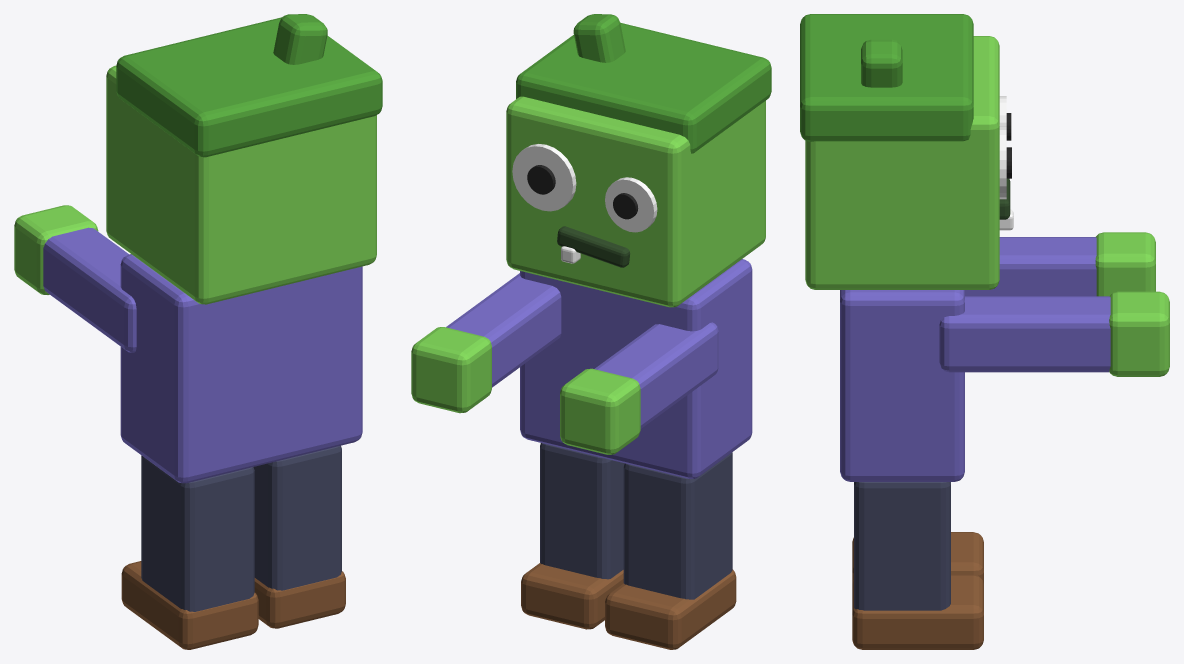
Rendered from zombie.glb.
3 renders of one model, left to right at view 1: azimuth 30°, elevation 25°; view 2: azimuth 150°, elevation 25°; view 3: azimuth 270°, elevation 25°, orthographic. The views are drawn at different scales.
Visible parts, largest first — view 1: Torso, Head, Hair, Leg.R, Leg.L, Arm.R, Shoe.R, Shoe.L, Hand.R, HairTuft; view 2: Head, Torso, Hair, Leg.R, Leg.L, Arm.R, Arm.L, Shoe.R, Hand.R, Hand.L, Shoe.L, Eye.L (+5 smaller); view 3: Head, Torso, Hair, Arm.L, Leg.L, Shoe.L, Arm.R, Hand.L, Hand.R, HairTuft, Shoe.R, Eye.L.
Part boxes in pixels (x1,y1,x2,y2): Torso: (120, 254, 362, 483); Head: (106, 65, 376, 304); Hair: (116, 17, 382, 157); Leg.R: (141, 455, 254, 611); Leg.L: (253, 445, 341, 590); Arm.R: (43, 227, 136, 352); Shoe.R: (121, 561, 258, 649); Shoe.L: (254, 571, 345, 628); Hand.R: (14, 205, 98, 294); HairTuft: (273, 14, 327, 64); Head: (506, 96, 765, 307); Torso: (520, 259, 752, 478); Hair: (516, 22, 771, 153); Leg.R: (623, 452, 732, 599); Leg.L: (540, 443, 624, 579); Arm.R: (594, 322, 718, 428); Arm.L: (446, 273, 561, 387); Shoe.R: (605, 569, 736, 649); Hand.R: (560, 368, 640, 454); Hand.L: (411, 327, 491, 413); Shoe.L: (521, 563, 623, 629); Eye.L: (512, 144, 576, 211); Head: (805, 36, 999, 289); Torso: (840, 290, 964, 481); Hair: (800, 14, 973, 141); Arm.L: (939, 296, 1110, 372); Leg.L: (854, 482, 950, 610); Shoe.L: (852, 574, 983, 649); Arm.R: (965, 237, 1096, 296); Hand.L: (1109, 291, 1169, 376); Hand.R: (1095, 232, 1155, 296); HairTuft: (861, 39, 902, 87); Shoe.R: (852, 532, 983, 583); Eye.L: (999, 126, 1006, 199).
Size of the model in its own units: 0.69 by 1.88 by 1.07.
